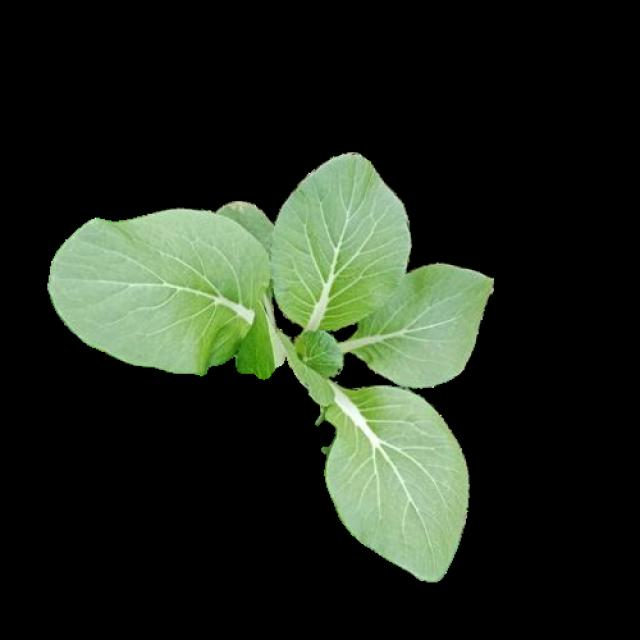healthy: (55, 165, 488, 594)
not-mature: (50, 156, 482, 584)
